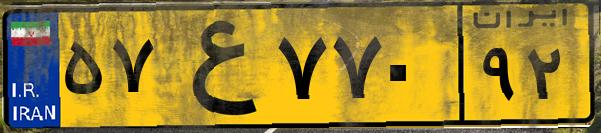0: (385, 28, 445, 110)
2: (525, 38, 570, 115)
5: (57, 26, 110, 100)
7: (270, 28, 330, 110), (330, 28, 385, 110), (110, 28, 158, 98)
9: (475, 38, 525, 113)
ع: (158, 12, 270, 120)
